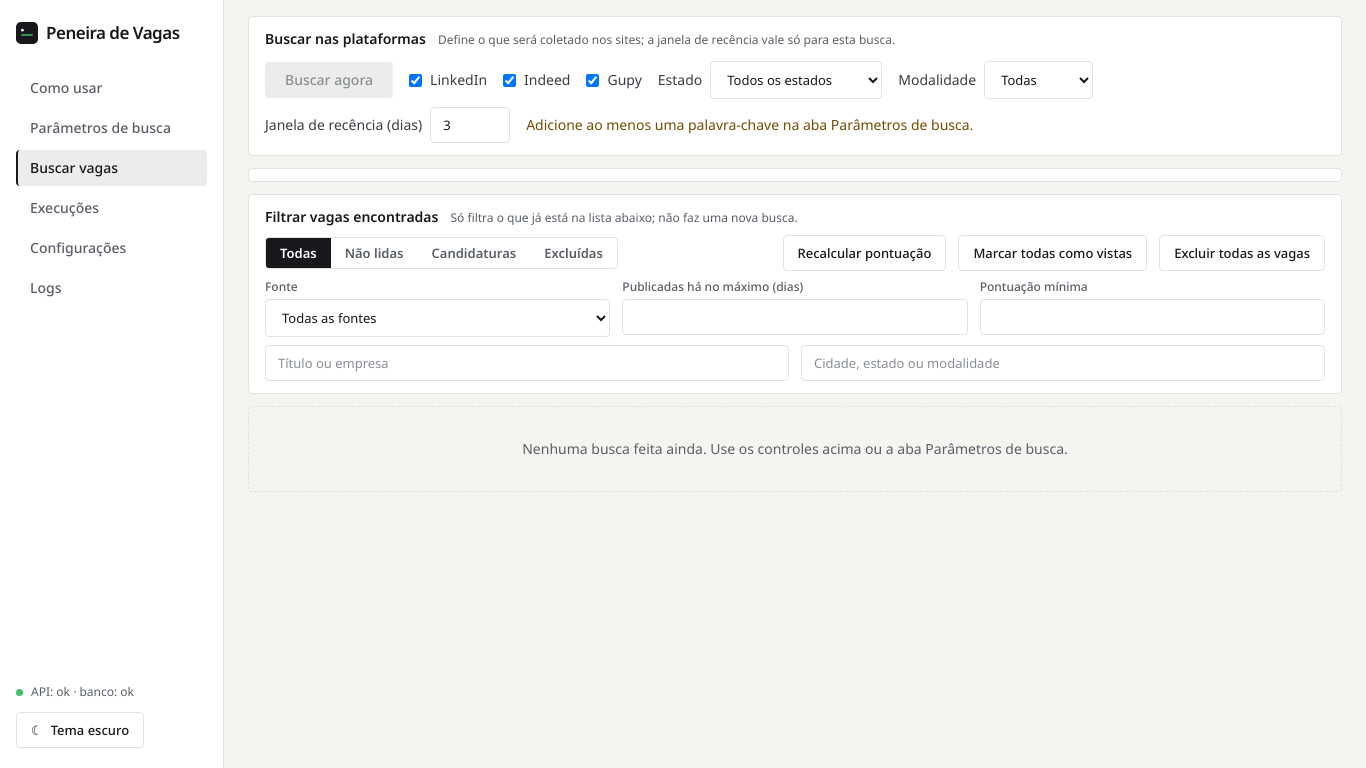
Scenario: App › tem a aba Busca com o botão Buscar agora e os painéis de palavras-chave
The width and height of the screenshot is (1366, 768).
Click the tab "Parâmetros de busca".
click(112, 128)  # box [16,110,207,146]
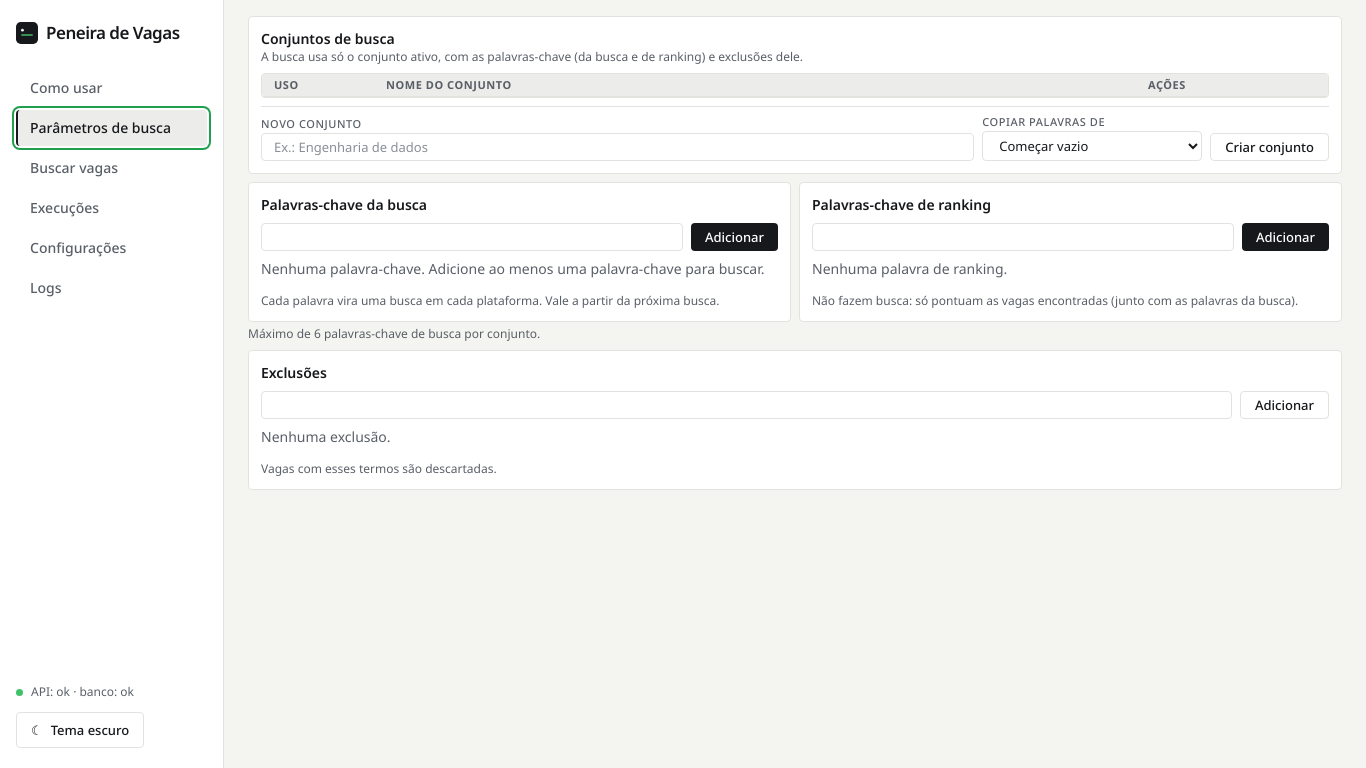
Check: the field named "Nova palavra-chave" is shown, box [261,223,683,251]
